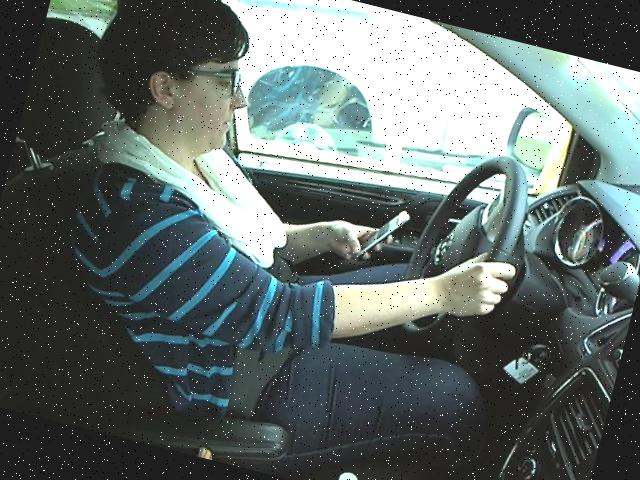c1 - Texting: (28, 0, 569, 415)
